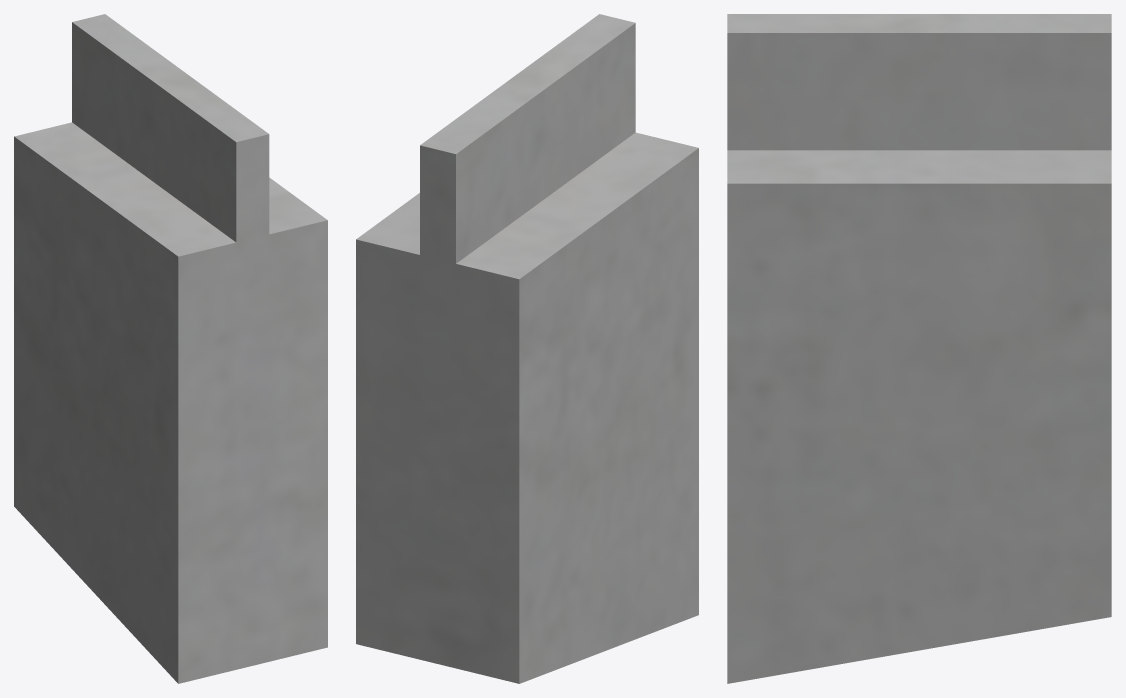
File: Straight.fbx
3 renders of one model, left to right at view 1: azimuth 30°, elevation 25°; view 2: azimuth 150°, elevation 25°; view 3: azimuth 270°, elevation 25°, orthographic. The views are drawn at different scales.
Parts seen in each view (by area): view 1: StairConcreteRailStraight; view 2: StairConcreteRailStraight; view 3: StairConcreteRailStraight.
Part boxes in pixels (x1,y1,x2,y2): StairConcreteRailStraight: (14, 14, 327, 683); StairConcreteRailStraight: (356, 14, 698, 683); StairConcreteRailStraight: (727, 14, 1111, 683).
Size of what is drawn, in the model's own units: 37.7 by 127 by 71.72.
